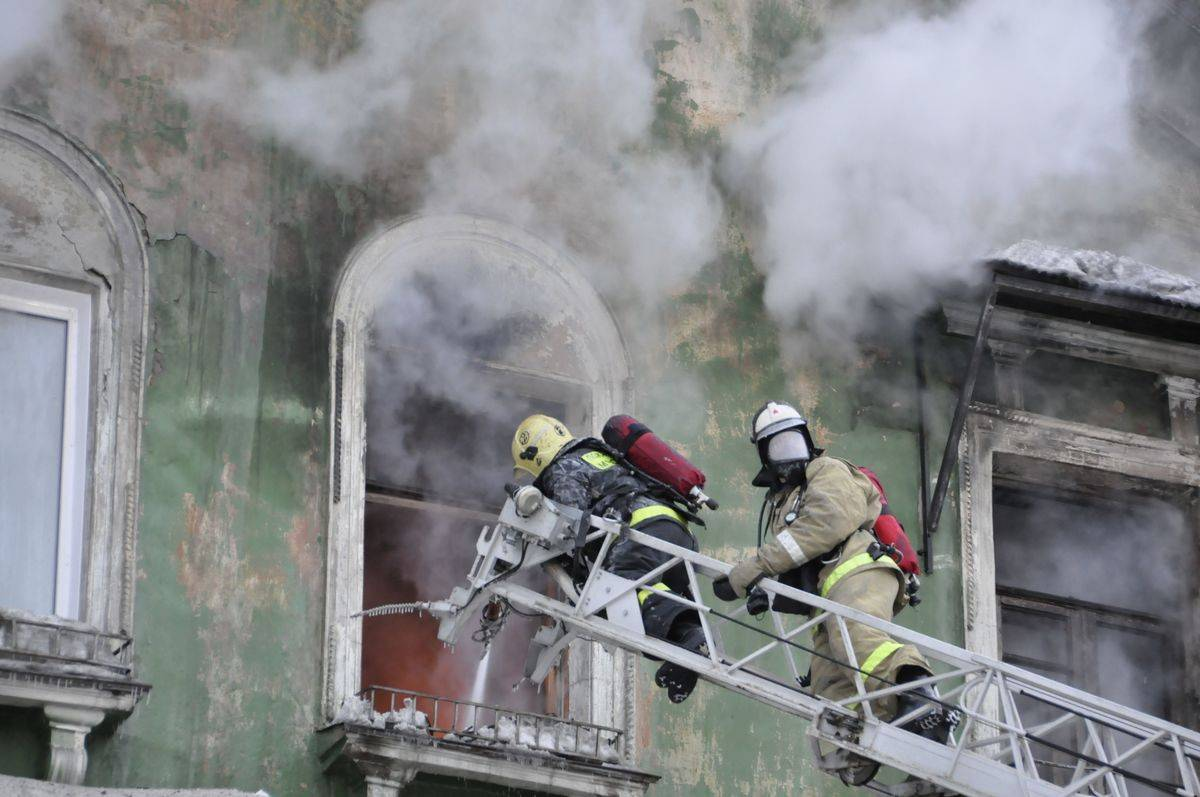fire: (270, 3, 1148, 328)
